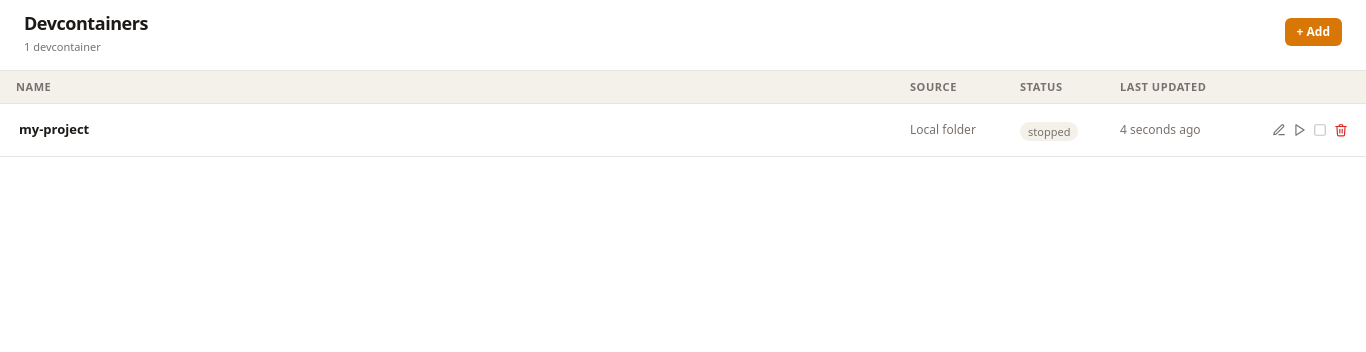
Test: Devcontainers lifecycle buttons › shows error message when delete fails
The width and height of the screenshot is (1366, 352).
Expected: the link "my-project" is shown, x1=19 y1=120 x2=89 y2=138
Click the button titled "Delete" at {"x": 1341, "y": 130}, box x1=1332 y1=116 x2=1350 y2=144
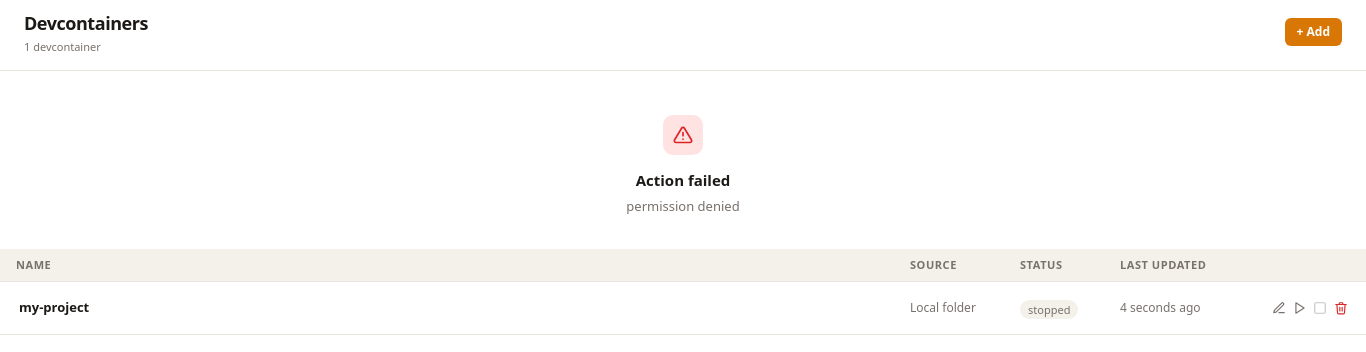
Expected: the text "permission denied" is shown, x1=626 y1=197 x2=740 y2=216
